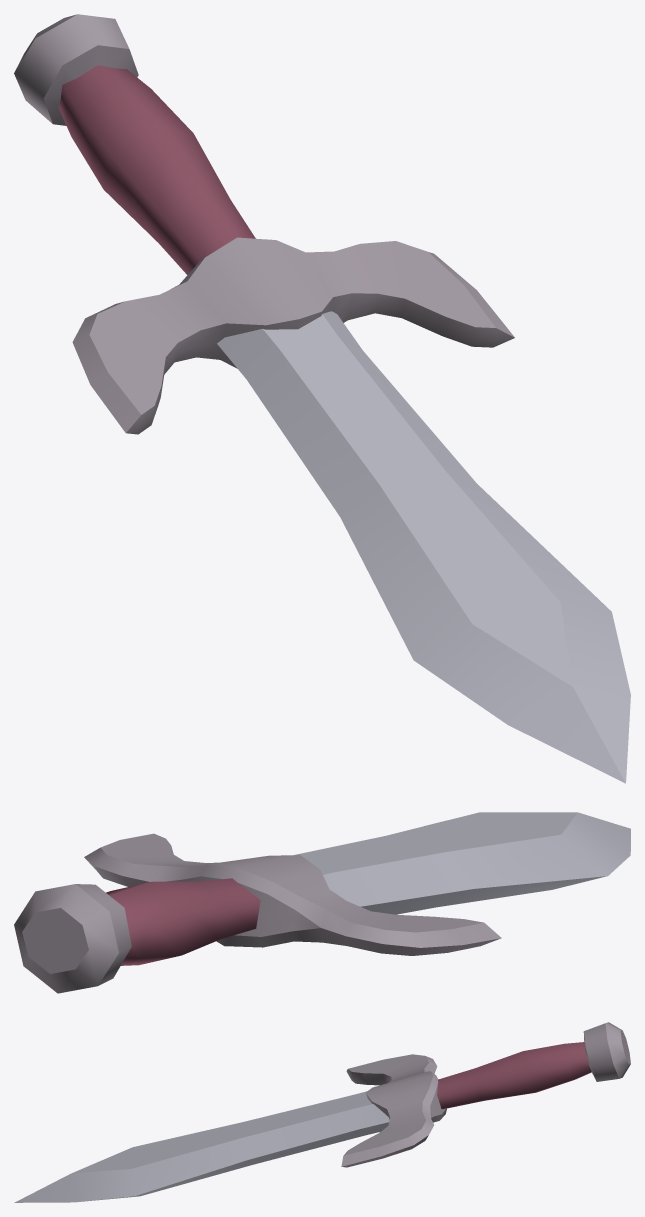
Rendered from Weap_Sword_Idle.fbx.
3 renders of one model, top to bottom at view 1: azimuth 30°, elevation 25°; view 2: azimuth 150°, elevation 25°; view 3: azimuth 270°, elevation 25°, orthographic. The views are drawn at different scales.
Visible parts, largest first — view 1: Sword_1; view 2: Sword_1; view 3: Sword_1.
Boxes of the visible parts, x1=… form: Sword_1: x1=14, y1=14, x2=630, y2=783; Sword_1: x1=14, y1=812, x2=630, y2=993; Sword_1: x1=14, y1=1022, x2=630, y2=1202.
Bounding box in the file's own units: 137 × 119 × 362.
